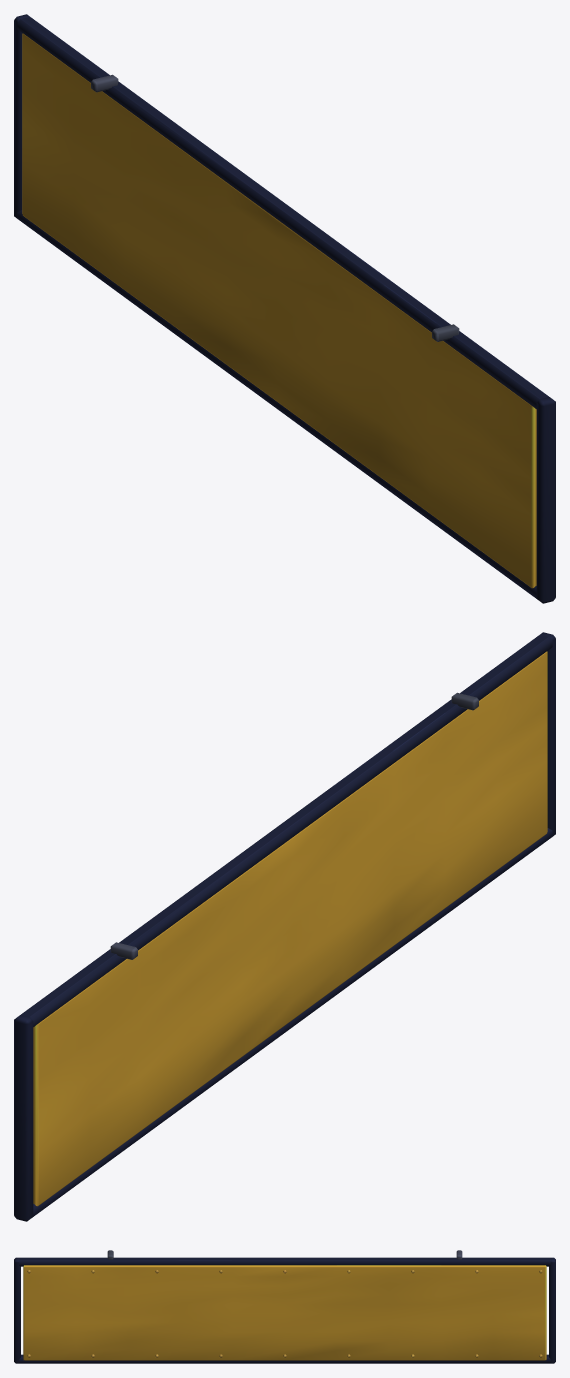
Rendered from SM_Stage4_SoundstageBanner.fbx.
The picture shows the model from 3 angles, top to bottom: view 1: azimuth 30°, elevation 25°; view 2: azimuth 150°, elevation 25°; view 3: azimuth 270°, elevation 25°; orthographic projection. The views are drawn at different scales.
Parts seen in each view (by area): view 1: SM_Stage4_SoundstageBanner; view 2: SM_Stage4_SoundstageBanner; view 3: SM_Stage4_SoundstageBanner.
Part boxes in pixels (x1,y1,x2,y2): SM_Stage4_SoundstageBanner: [14, 14, 555, 603]; SM_Stage4_SoundstageBanner: [14, 632, 555, 1221]; SM_Stage4_SoundstageBanner: [14, 1250, 555, 1363].
Bounding box in the file's own units: 37.75 × 203 × 932.
